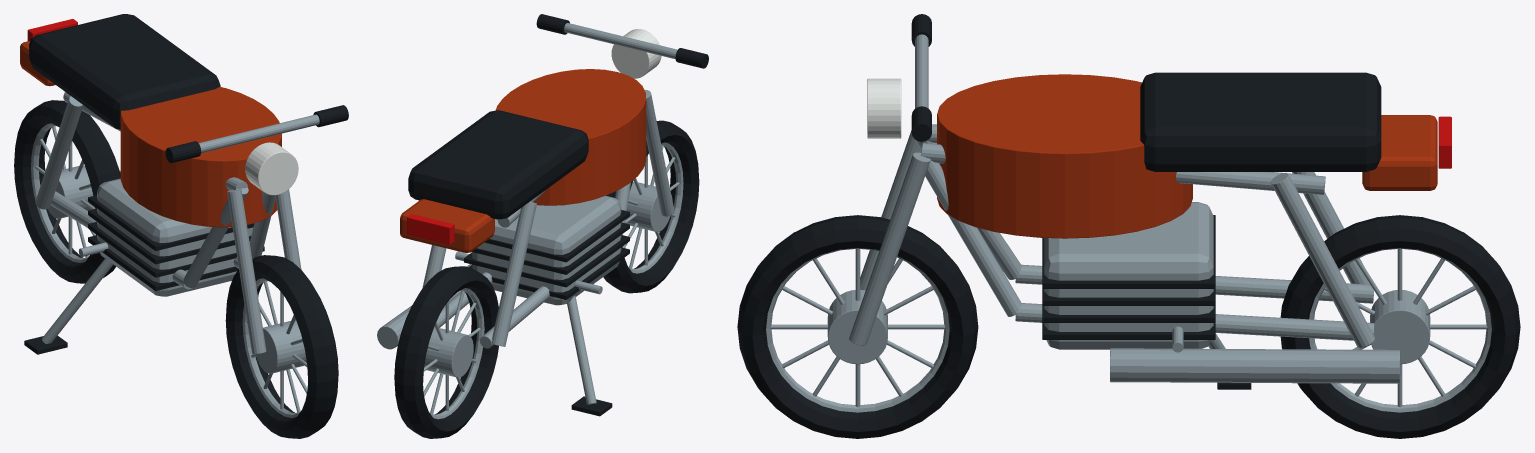
3 renders of one model, left to right at view 1: azimuth 30°, elevation 25°; view 2: azimuth 150°, elevation 25°; view 3: azimuth 270°, elevation 25°, orthographic. The views are drawn at different scales.
Visible parts, largest first — view 1: FUEL_Tank, SEAT, TYRE, TYRE.001, ENGINE, FRONT_Fork, HEADLIGHT, REAR_Shock, HUB, HANDLEBAR, FRAME_Downtube, SPOKES (+18 smaller); view 2: SEAT, FUEL_Tank, TYRE.001, ENGINE, TYRE, TAIL, REAR_Shock, HUB.001, FRONT_Fork, HEADLIGHT, HUB, HANDLEBAR (+18 smaller); view 3: FUEL_Tank, SEAT, TYRE, TYRE.001, ENGINE, EXHAUST, TAIL, REAR_Shock.001, FRONT_Fork.001, HUB.001, SPOKES, FRAME_Lower.001 (+17 smaller).
Part boxes in pixels (<box>): FUEL_Tank: <box>120,87,281,227</box>; SEAT: <box>29,14,220,129</box>; TYRE: <box>225,255,338,438</box>; TYRE.001: <box>14,100,120,283</box>; ENGINE: <box>97,178,253,296</box>; FRONT_Fork: <box>227,189,266,354</box>; HEADLIGHT: <box>245,142,298,195</box>; REAR_Shock: <box>35,96,83,209</box>; HUB: <box>255,320,306,373</box>; HANDLEBAR: <box>199,114,319,153</box>; FRAME_Downtube: <box>183,187,248,288</box>; SPOKES: <box>246,281,307,413</box>; SEAT: <box>408,110,588,219</box>; FUEL_Tank: <box>495,69,646,205</box>; TYRE.001: <box>394,266,498,438</box>; ENGINE: <box>472,195,621,305</box>; TYRE: <box>603,120,699,293</box>; TAIL: <box>400,199,494,252</box>; REAR_Shock: <box>492,201,536,346</box>; HUB.001: <box>424,327,473,377</box>; FRONT_Fork: <box>644,89,674,216</box>; HEADLIGHT: <box>611,29,661,78</box>; HUB: <box>625,182,672,232</box>; HANDLEBAR: <box>564,23,677,59</box>; FUEL_Tank: <box>937,74,1192,238</box>; SEAT: <box>1140,72,1381,171</box>; TYRE: <box>737,215,978,438</box>; TYRE.001: <box>1280,215,1520,438</box>; ENGINE: <box>1044,202,1213,349</box>; EXHAUST: <box>1110,348,1400,383</box>; TAIL: <box>1362,115,1437,190</box>; REAR_Shock.001: <box>1270,173,1374,347</box>; FRONT_Fork.001: <box>849,152,930,345</box>; HUB.001: <box>1370,290,1430,364</box>; SPOKES: <box>770,248,945,407</box>; FRAME_Lower.001: <box>1015,303,1374,340</box>.
Bounding box in the file's own units: 0.755 × 1.08 × 2.08.
